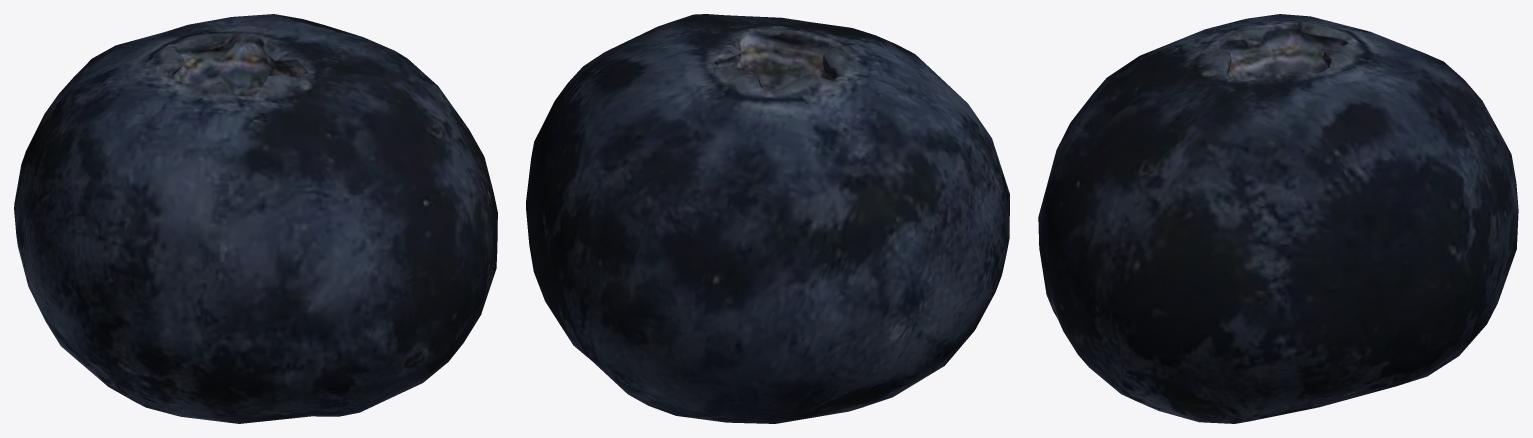
The model's file is blueberry.glb.
3 views of the same model, side by side, from view 1: azimuth 30°, elevation 25°; view 2: azimuth 150°, elevation 25°; view 3: azimuth 270°, elevation 25° (orthographic). The views are drawn at different scales.
Visible parts, largest first — view 1: Object_2; view 2: Object_2; view 3: Object_2.
Part boxes in pixels (<box>): Object_2: <box>14,14,497,423</box>; Object_2: <box>526,14,1009,423</box>; Object_2: <box>1038,14,1518,423</box>.
Bounding box in the file's own units: 0.0215 × 0.0162 × 0.0216.
Materials: 1 (1 with a texture image).
